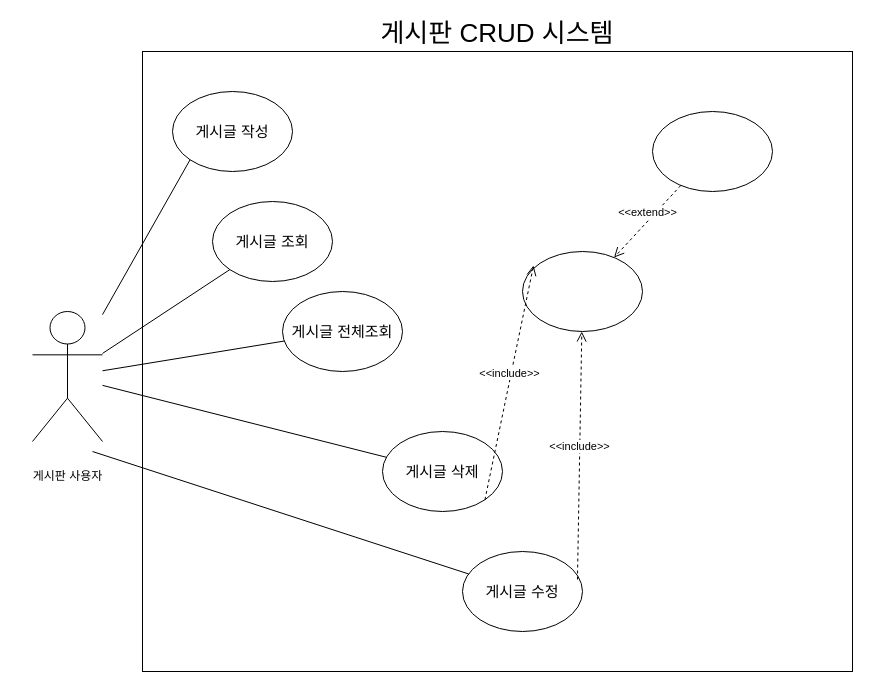
Some shapes in this 870 by 689 pixel diagram are drawn without their labels. Each missing label, with the centre of its shape:
"Actor" goes at point 67,376.
"비밀번호 에러 출력" goes at point 712,151.
"비밀번호 확인" goes at point 582,291.
